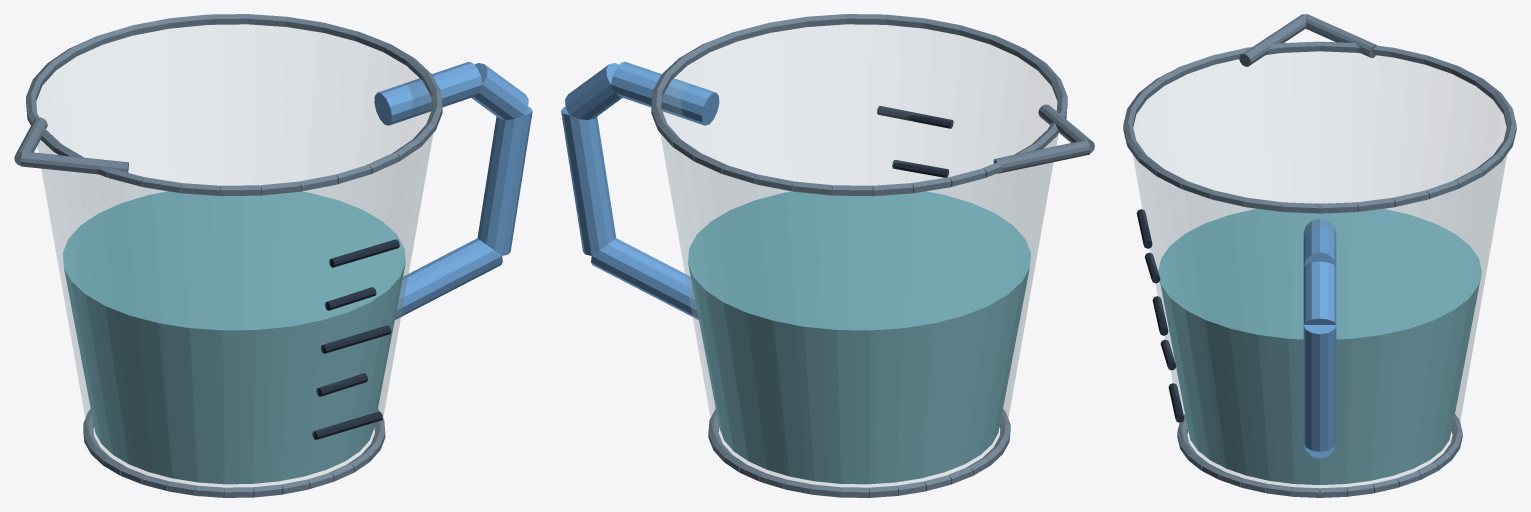
File: jug.glb
The picture shows the model from 3 angles, left to right: view 1: azimuth 30°, elevation 25°; view 2: azimuth 150°, elevation 25°; view 3: azimuth 270°, elevation 25°; orthographic projection. The views are drawn at different scales.
Parts seen in each view (by area): view 1: glass wall, liquid, handle2, handle3, handle0, handle1, pour lip0, tick 4, tick 2, tick 0, pour lip1; view 2: glass wall, liquid, handle2, handle3, handle0, handle1, pour lip1, pour lip0, tick 4; view 3: glass wall, liquid, handle2, handle1, handle0, pour lip0, pour lip1.
Part boxes in pixels (x1,y1,x2,y2): glass wall: [37, 25, 432, 487]; liquid: [62, 191, 405, 484]; handle2: [477, 107, 532, 255]; handle3: [395, 238, 502, 319]; handle0: [374, 61, 482, 125]; handle1: [471, 63, 528, 120]; pour lip0: [20, 151, 128, 174]; tick 4: [329, 239, 399, 267]; tick 2: [320, 325, 391, 353]; tick 0: [312, 411, 382, 439]; pour lip1: [14, 117, 47, 165]; glass wall: [660, 25, 1058, 487]; liquid: [688, 191, 1030, 484]; handle2: [561, 106, 616, 255]; handle3: [591, 238, 698, 319]; handle0: [611, 61, 719, 125]; handle1: [565, 63, 622, 120]; pour lip1: [993, 140, 1090, 173]; pour lip0: [1038, 104, 1094, 152]; tick 4: [877, 106, 953, 128]; glass wall: [1133, 52, 1506, 488]; liquid: [1158, 203, 1481, 484]; handle2: [1303, 325, 1336, 451]; handle1: [1303, 261, 1336, 324]; handle0: [1303, 218, 1336, 266]; pour lip0: [1239, 14, 1306, 66]; pour lip1: [1305, 14, 1376, 58].
Bounding box in the file's own units: 1.89 × 1.19 × 1.31.
